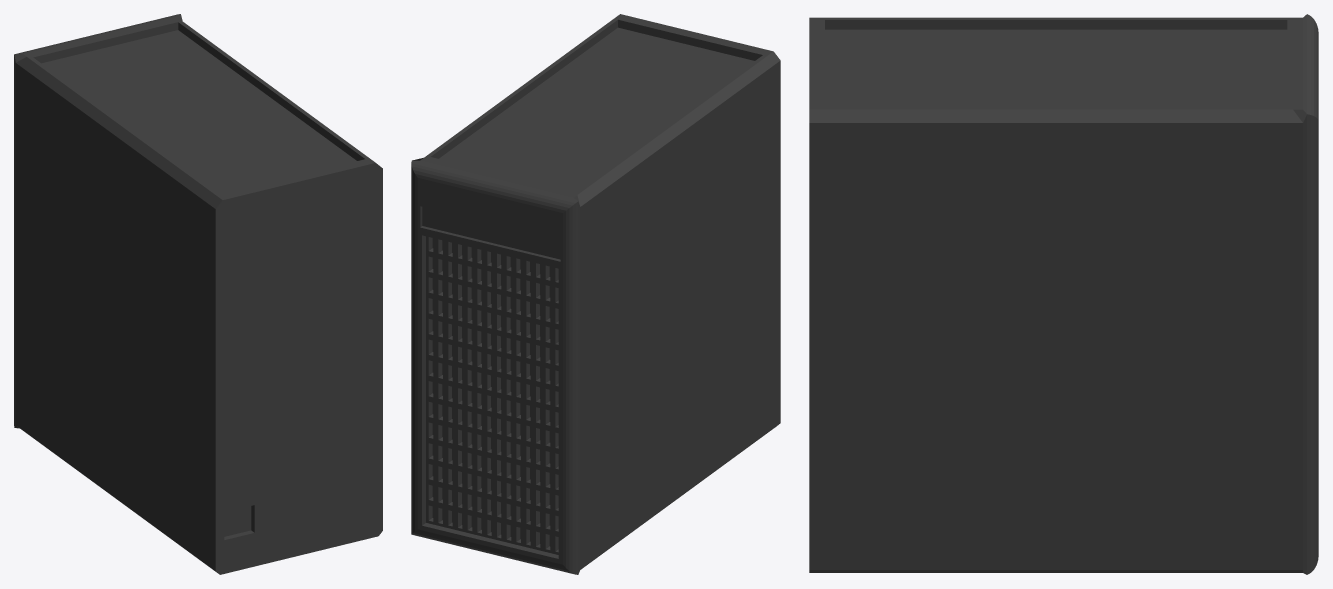
File: computer.gltf
3 views of the same model, side by side, from view 1: azimuth 30°, elevation 25°; view 2: azimuth 150°, elevation 25°; view 3: azimuth 270°, elevation 25° (orthographic). The views are drawn at different scales.
Parts seen in each view (by area): view 1: computer; view 2: computer; view 3: computer.
Boxes of the visible parts, x1,y1,x2,y2 form: computer: [14, 14, 382, 574]; computer: [411, 14, 780, 574]; computer: [809, 14, 1318, 574].
Size of the model in its own units: 0.2851 by 0.6096 by 0.6096.
Materials: 1 (1 with a texture image).
